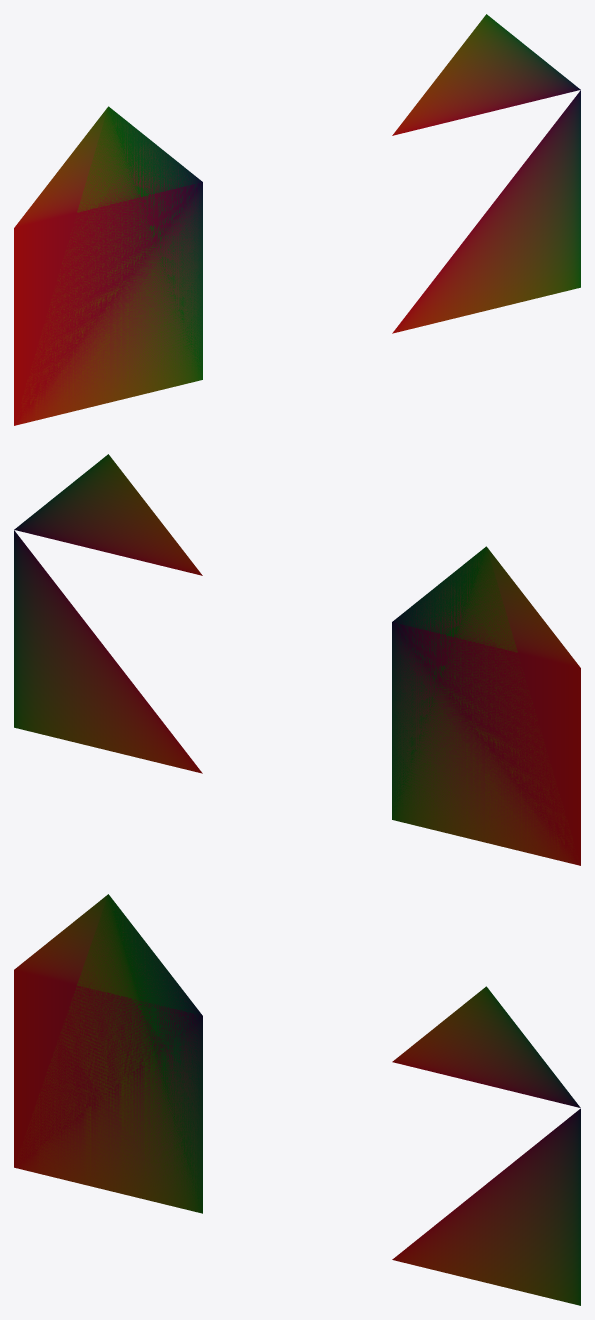
Rendered from seed_polylist_mixed_vcounts.dae.
3 renders of one model, top to bottom at view 1: azimuth 30°, elevation 25°; view 2: azimuth 150°, elevation 25°; view 3: azimuth 330°, elevation 25°, orthographic.
Visible parts, largest first — view 1: PolyNode; view 2: PolyNode; view 3: PolyNode.
Boxes of the visible parts, x1,y1,x2,y2 form: PolyNode: [14, 14, 580, 425]; PolyNode: [14, 454, 580, 865]; PolyNode: [14, 894, 580, 1305].
Bounding box in the file's own units: 3 × 1.5 × 0.
